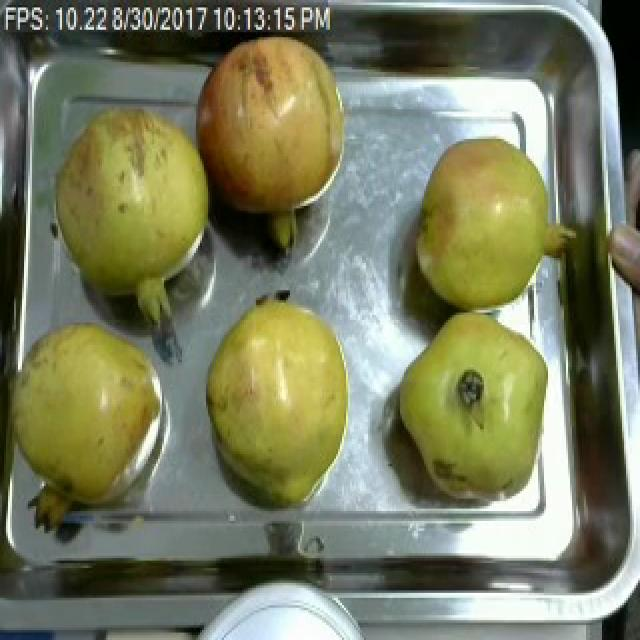fruit: (194, 278, 362, 523), (0, 305, 176, 536), (44, 94, 218, 310), (188, 24, 354, 246), (388, 307, 554, 514), (410, 129, 570, 320)
